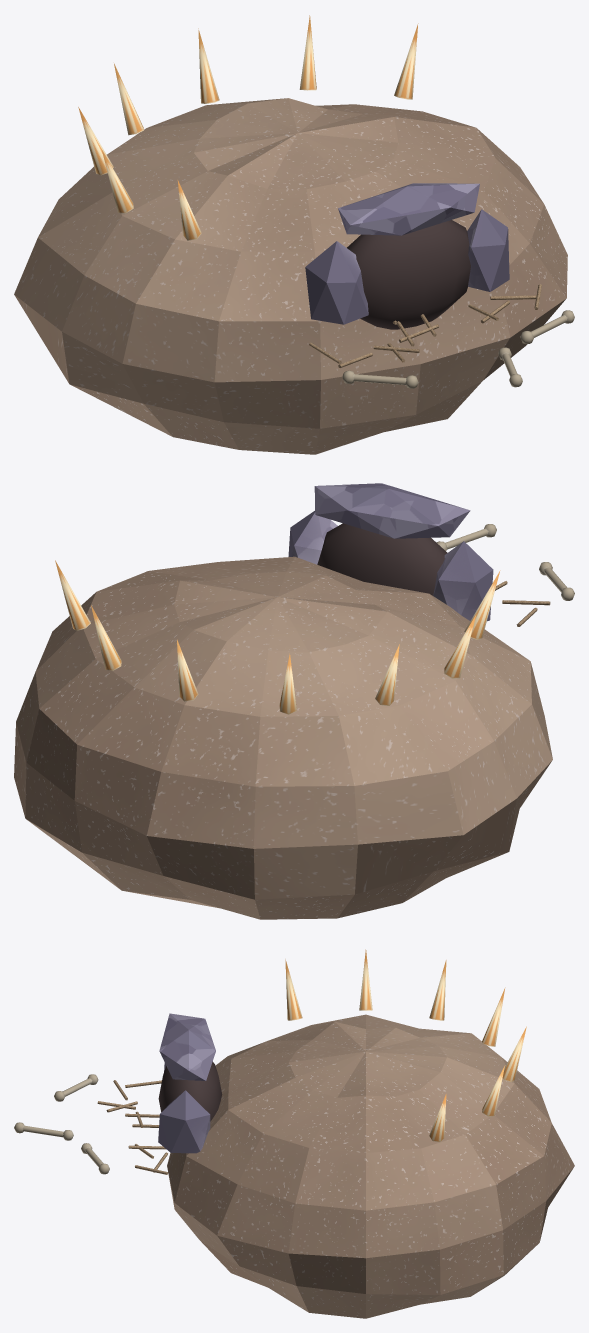
The model's file is den_painted.glb.
3 views of the same model, one above another, from view 1: azimuth 30°, elevation 25°; view 2: azimuth 150°, elevation 25°; view 3: azimuth 270°, elevation 25° (orthographic). The views are drawn at different scales.
Visible parts, largest first — view 1: Den; view 2: Den; view 3: Den.
Part boxes in pixels (x1=…): Den: x1=14, y1=15, x2=574, y2=454; Den: x1=14, y1=483, x2=574, y2=919; Den: x1=14, y1=949, x2=574, y2=1318.
Bounding box in the file's own units: 6.82 × 4.34 × 8.71.
7 materials, 6 textured.
